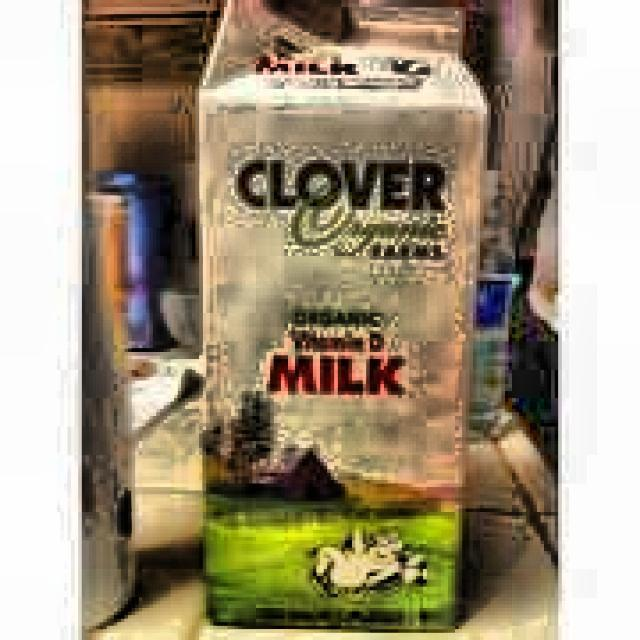cardboard: (192, 0, 487, 633)
